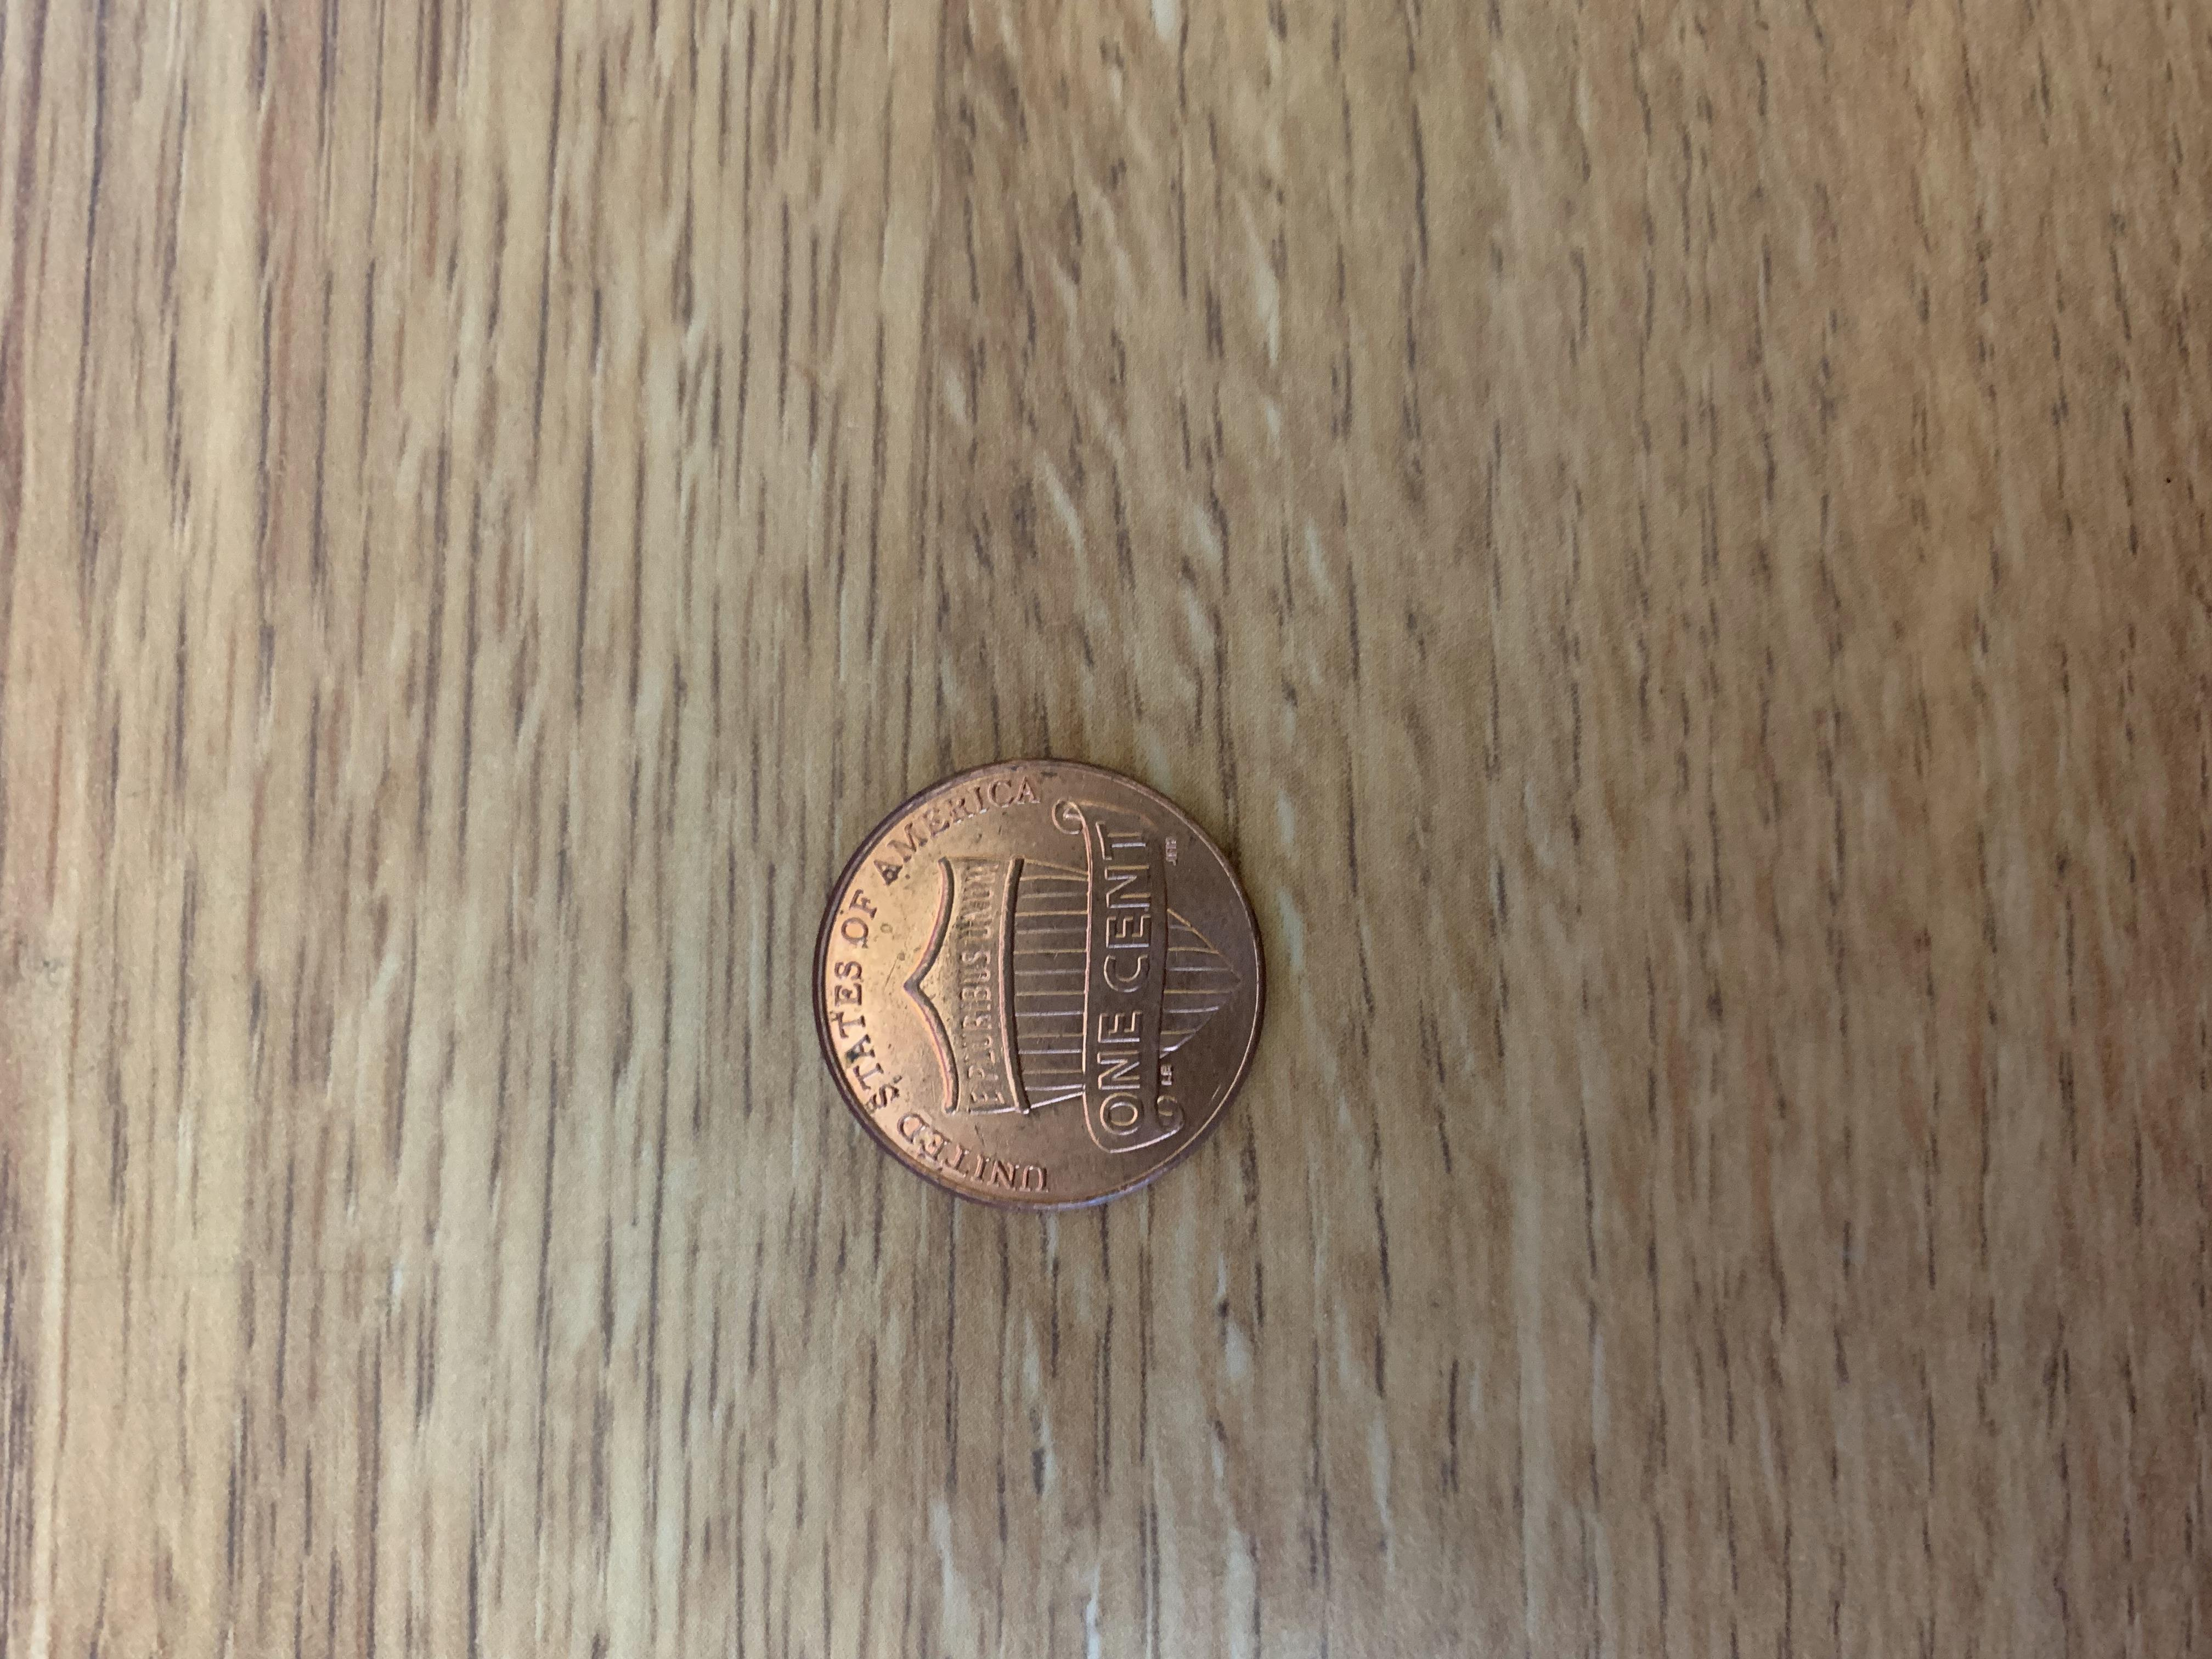Penny: (794, 748, 1277, 1230)
